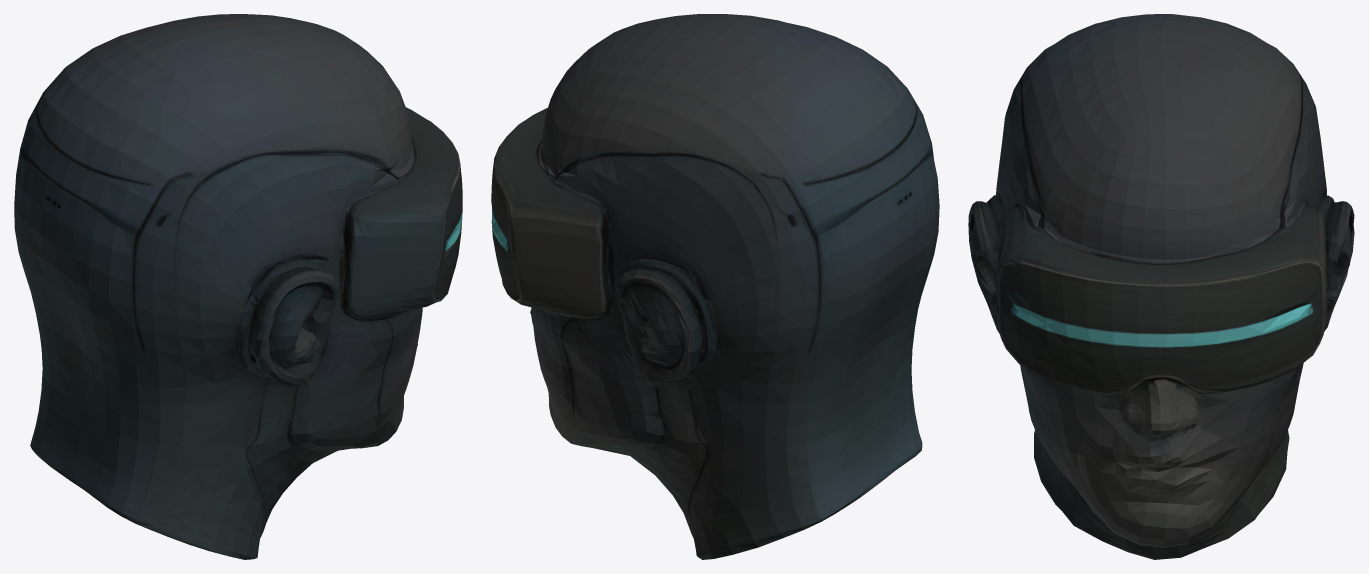
File: vr head.glb
3 renders of one model, left to right at view 1: azimuth 30°, elevation 25°; view 2: azimuth 150°, elevation 25°; view 3: azimuth 270°, elevation 25°, orthographic.
Visible parts, largest first — view 1: tripo_node_0397d188-7c77-4ce3-bc6c-0dc1d84caf14; view 2: tripo_node_0397d188-7c77-4ce3-bc6c-0dc1d84caf14; view 3: tripo_node_0397d188-7c77-4ce3-bc6c-0dc1d84caf14.
Part boxes in pixels (x1=…): tripo_node_0397d188-7c77-4ce3-bc6c-0dc1d84caf14: x1=14, y1=14, x2=462, y2=559; tripo_node_0397d188-7c77-4ce3-bc6c-0dc1d84caf14: x1=491, y1=14, x2=939, y2=559; tripo_node_0397d188-7c77-4ce3-bc6c-0dc1d84caf14: x1=968, y1=14, x2=1354, y2=559.
Size of the model in its own units: 0.7991 by 0.9973 by 0.6835.
Materials: 1 (1 with a texture image).
